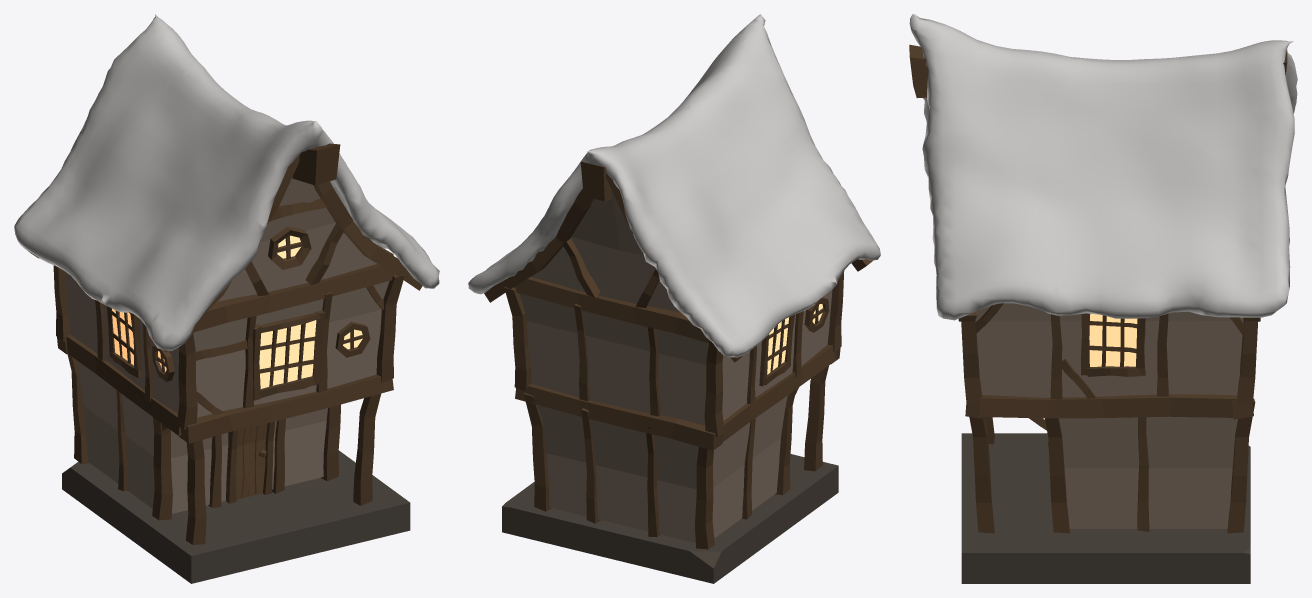
File: house1.glb
3 views of the same model, side by side, from view 1: azimuth 30°, elevation 25°; view 2: azimuth 150°, elevation 25°; view 3: azimuth 270°, elevation 25° (orthographic). The views are drawn at different scales.
Visible parts, largest first — view 1: House Complete 01; view 2: House Complete 01; view 3: House Complete 01.
Boxes of the visible parts, x1=… form: House Complete 01: x1=14, y1=14, x2=439, y2=583; House Complete 01: x1=468, y1=14, x2=880, y2=583; House Complete 01: x1=909, y1=14, x2=1297, y2=583.
Size of the model in its own units: 8.66 by 12.99 by 9.03.
